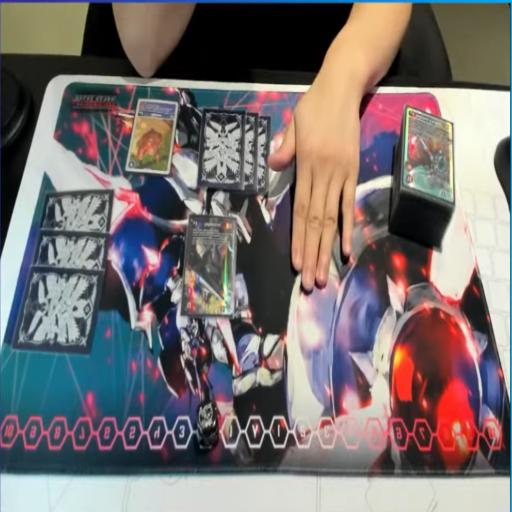card: (390, 106, 455, 249), (181, 216, 237, 317), (125, 99, 178, 175)
